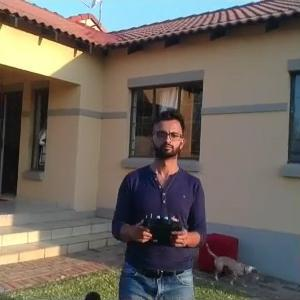follow: (105, 104, 212, 298)
null: (202, 240, 264, 290)
